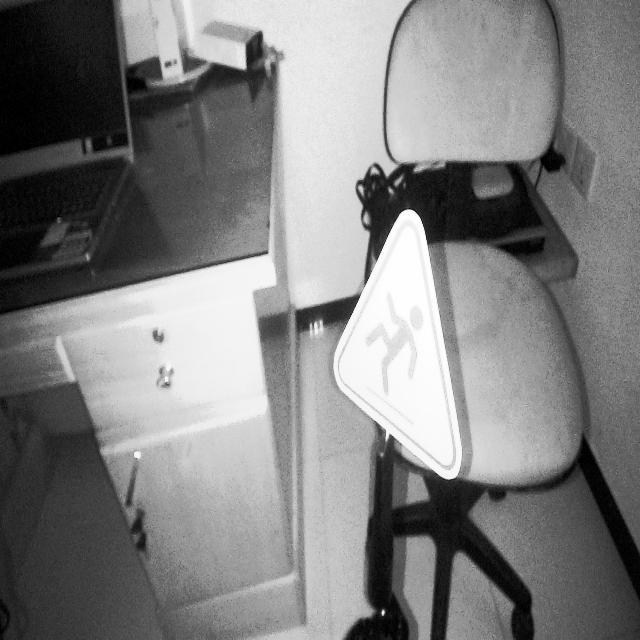Sign: (333, 208, 464, 483)
